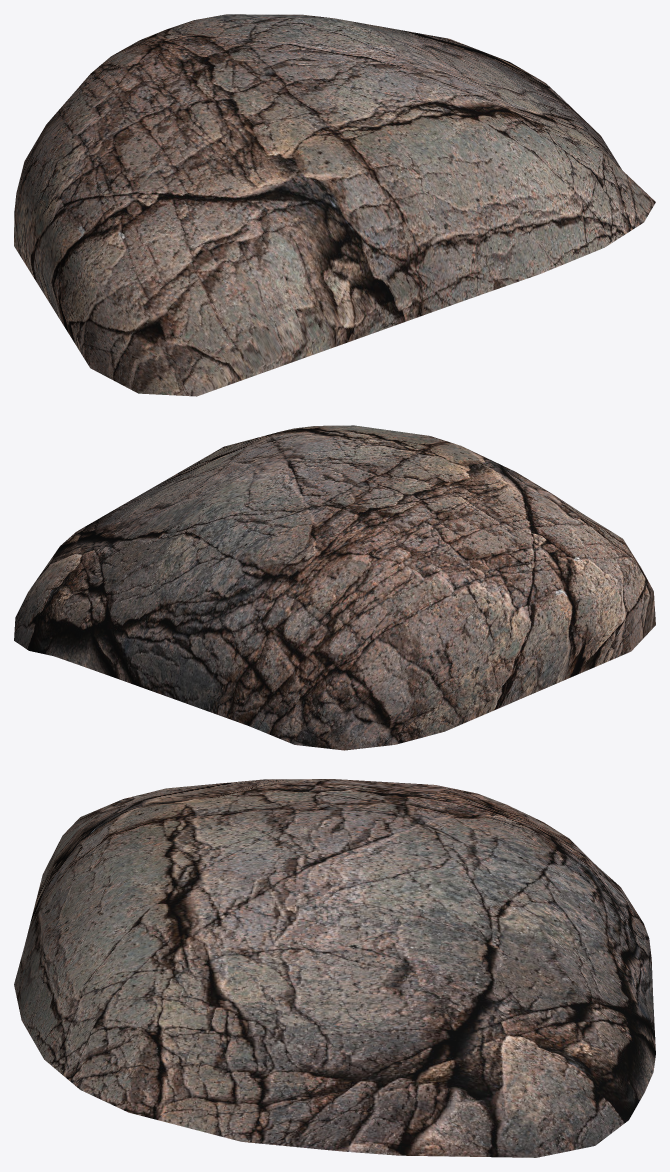
The model's file is Rock 2.fbx.
3 views of the same model, one above another, from view 1: azimuth 30°, elevation 25°; view 2: azimuth 150°, elevation 25°; view 3: azimuth 270°, elevation 25° (orthographic). The views are drawn at different scales.
Visible parts, largest first — view 1: Rock 2; view 2: Rock 2; view 3: Rock 2.
Part boxes in pixels (box(x1,y1,x2,y2)): Rock 2: box(14, 14, 655, 396); Rock 2: box(14, 425, 655, 750); Rock 2: box(14, 779, 655, 1157).
Bounding box in the file's own units: 354 × 113 × 307.
